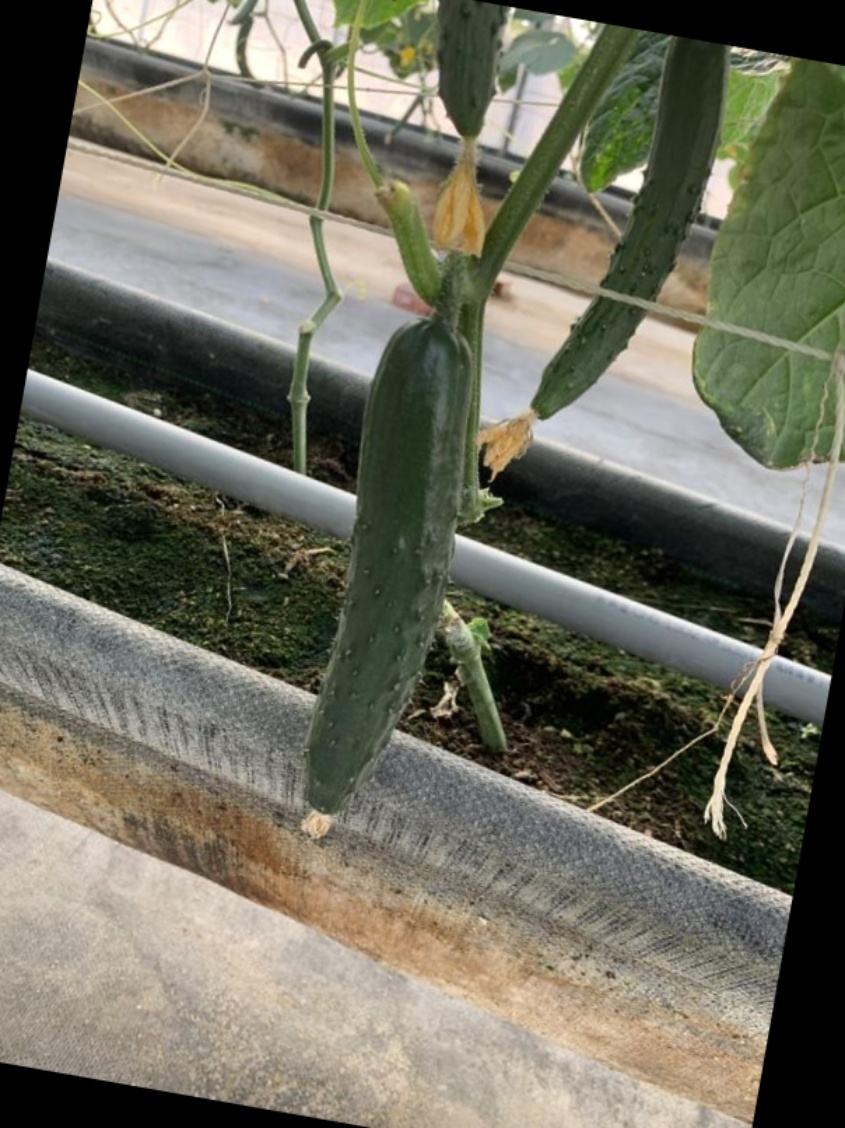mature: (289, 334, 478, 821)
